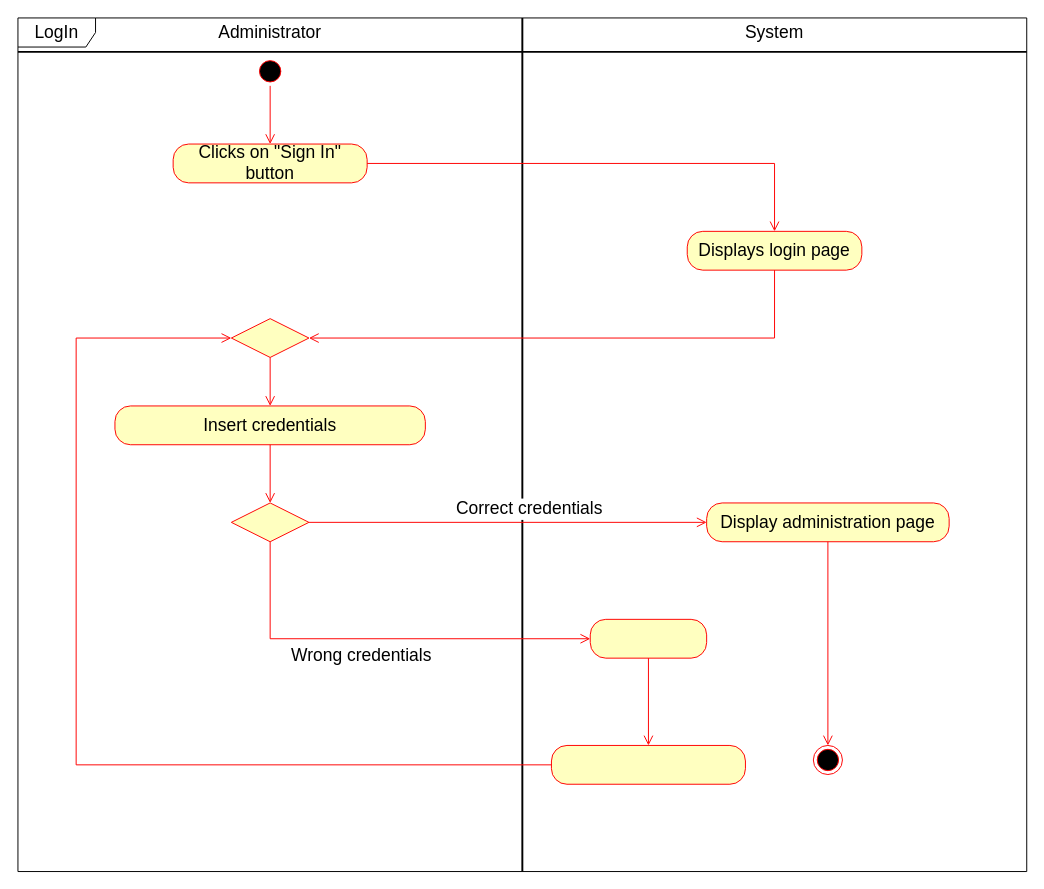
Image size: 1044x889. Some labels were removed from this diagram. The shapes that lost their labels are listed below. From the top down, each one's box as (x1, y1, x2, y2) in pixels, then its label:
(589, 618, 707, 658): Error
(550, 744, 745, 784): Display error message
